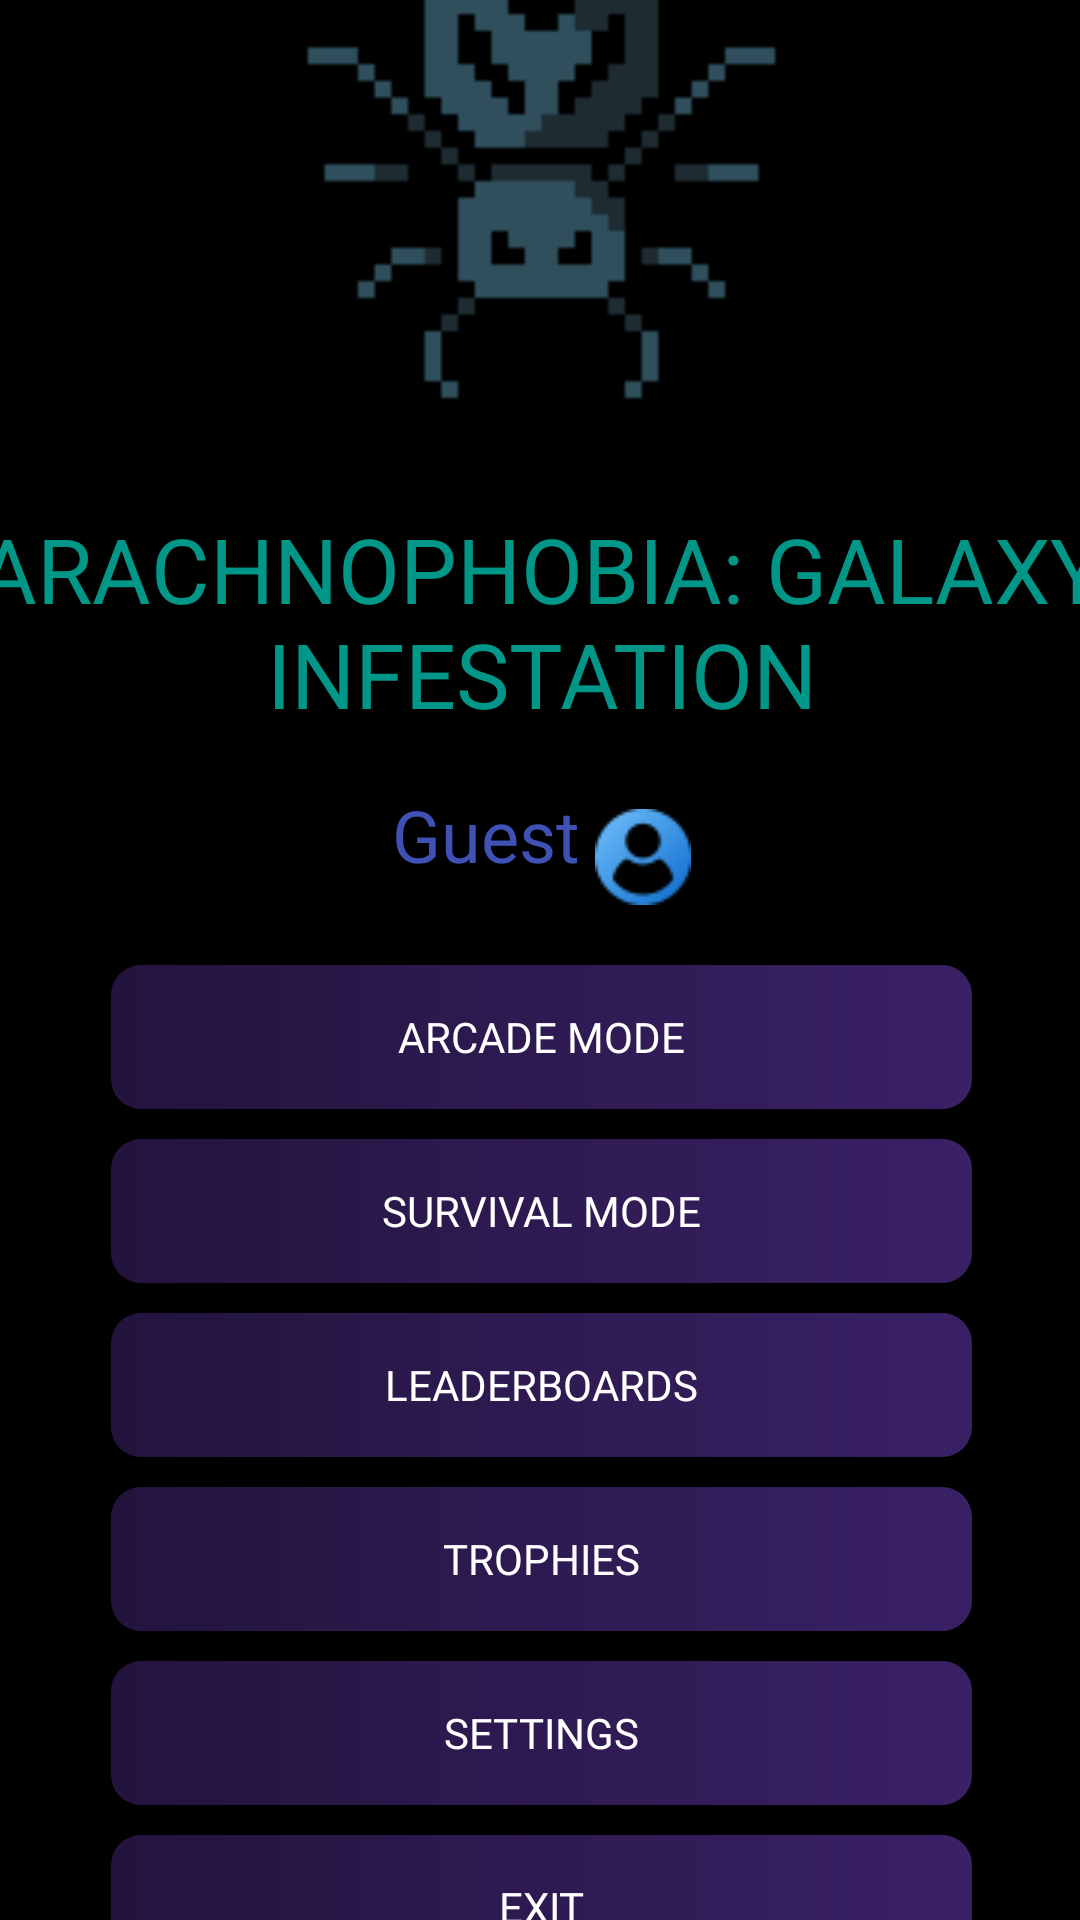

Screen size 1080×1920. Icon name, then its center in pixels as (x,y):
user: (643,857)
